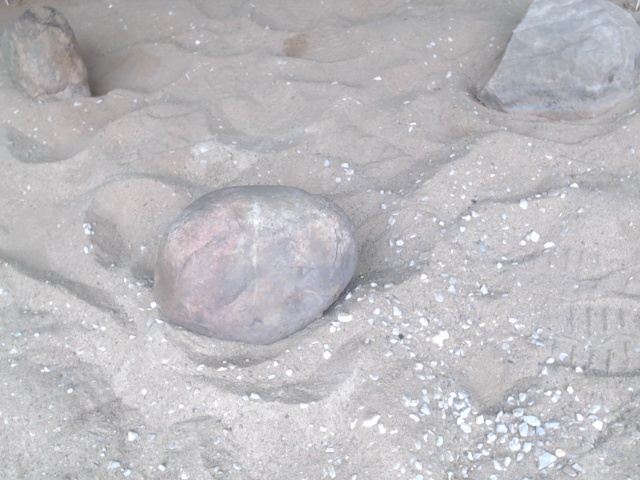rock: (153, 185, 361, 345), (473, 1, 637, 121), (1, 6, 92, 105)
